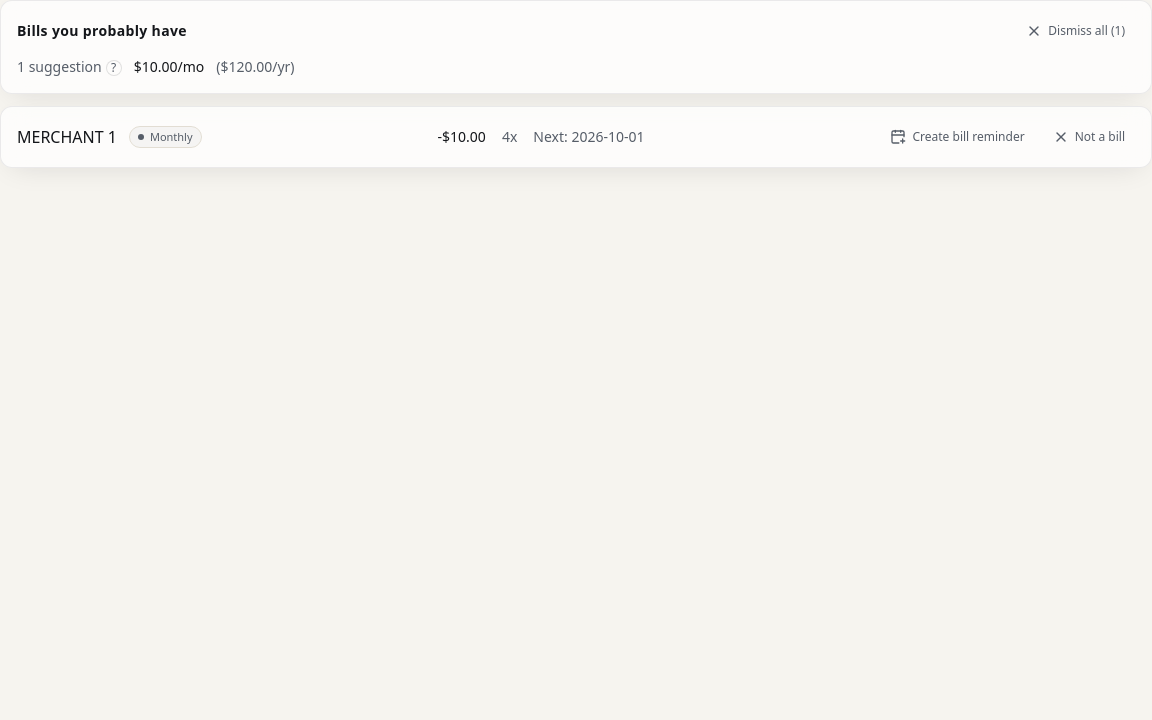
empty states (M133 dismissal_design) › never claims nothing was detected after a dismissal
Check: the text "MERCHANT 1" is shown, box [17, 125, 117, 149]
Click the button with aria-label "Not a bill — MERCHANT 1" at coordinates (1089, 137), box [1043, 123, 1135, 151]
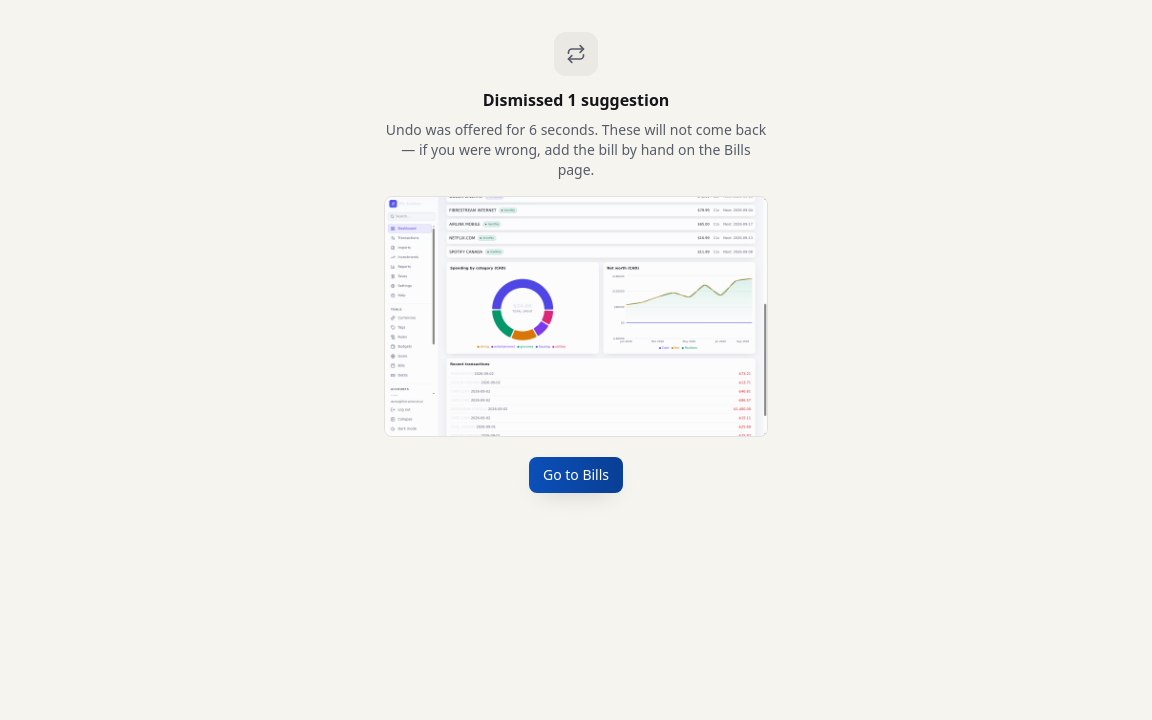
Check: the text "Dismissed 1 suggestion" is shown, box [483, 88, 669, 112]
